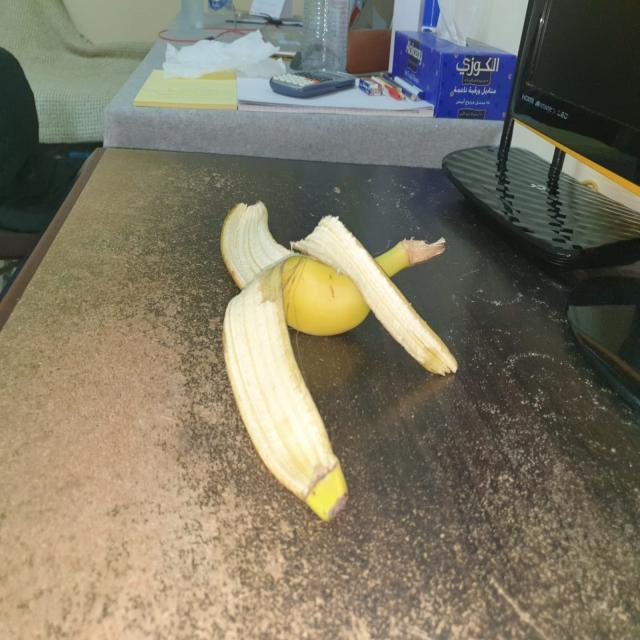banana-peel: (225, 198, 461, 522)
